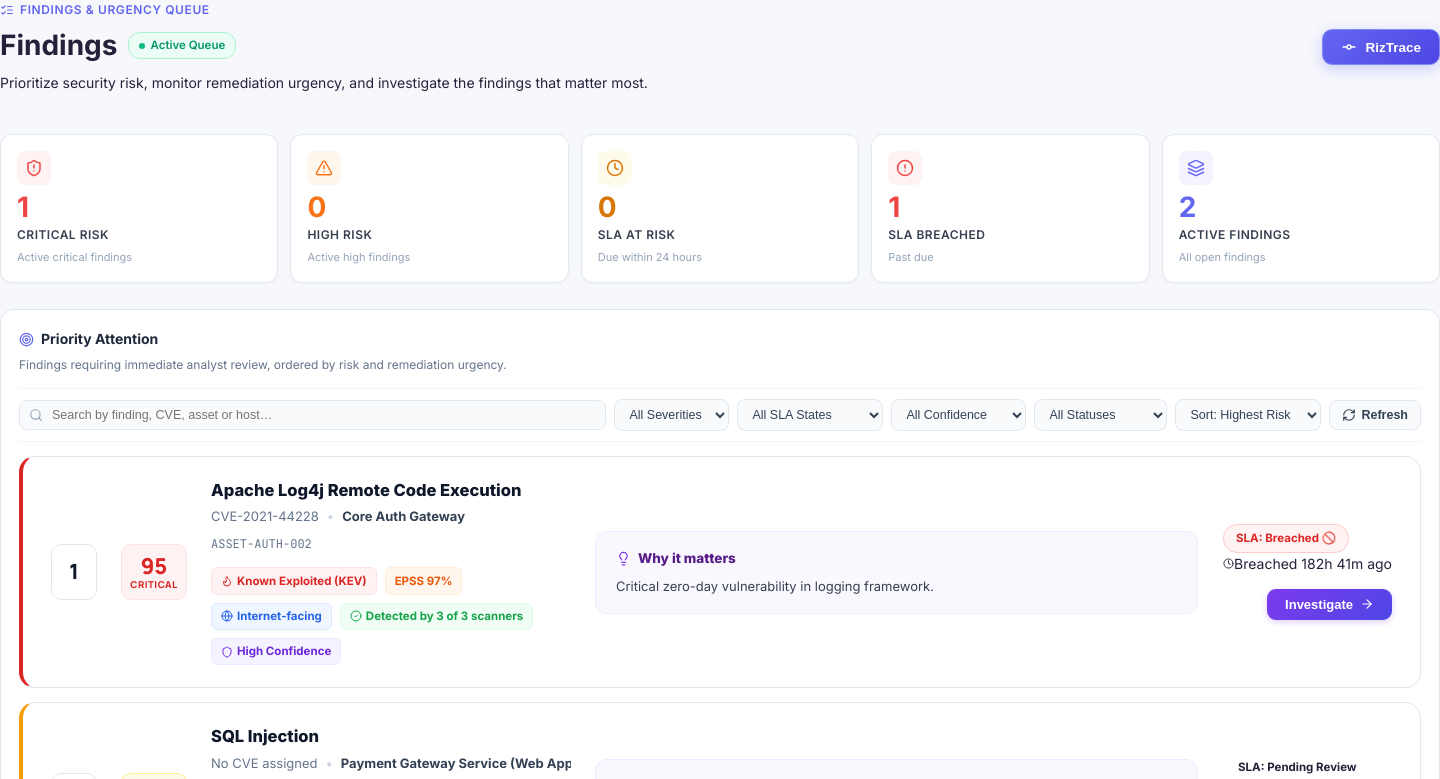
Test: Findings SOC Queue Component & Utilities › FindingsQueue Page Integration › 7. filters findings by search term
Expected: the heading "Apache Log4j Remote Code Execution" is shown, [211,479,521,501]
Type "Log4j" into the field with placeholder "Search by finding, CVE, asset or host…" at (313, 415), box [19,400,606,430]
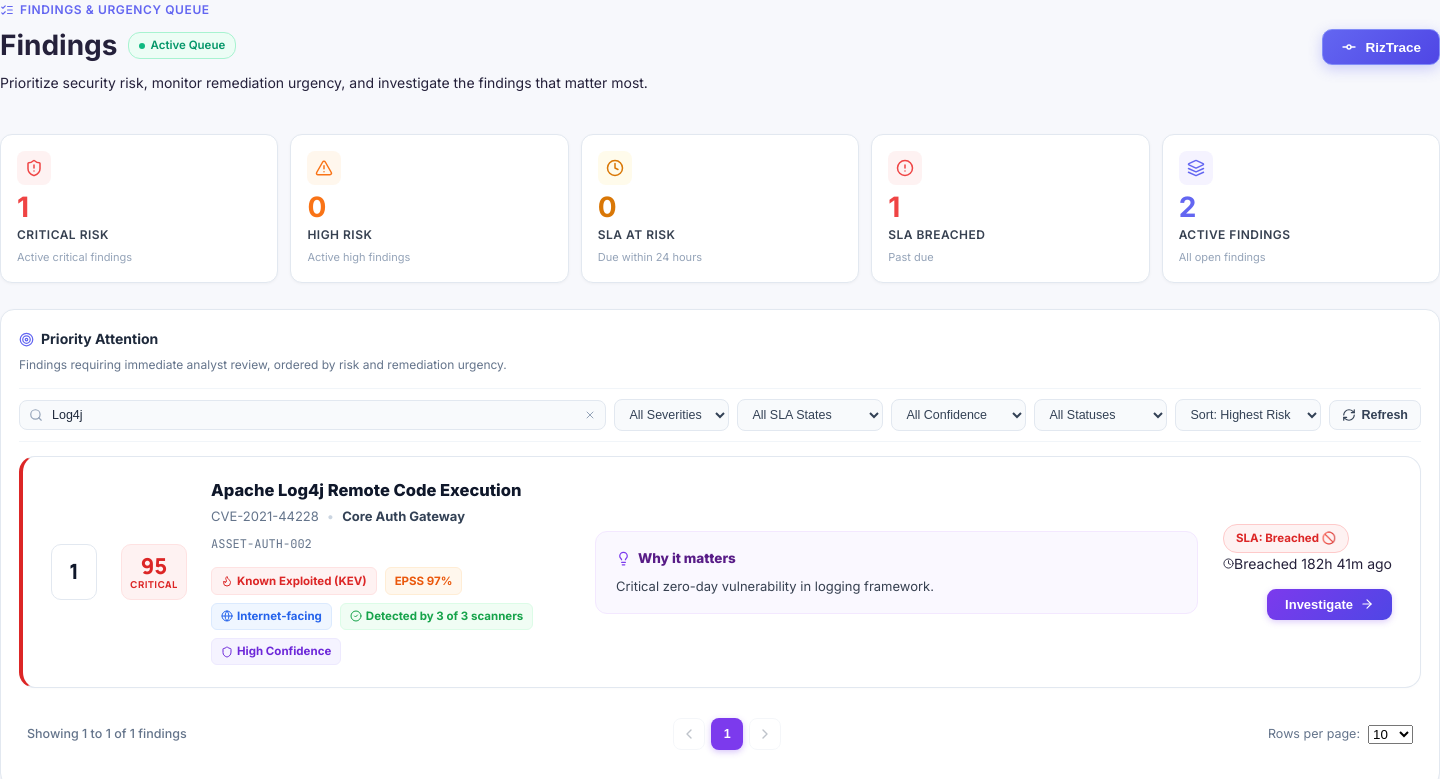
Expected: the heading "Apache Log4j Remote Code Execution" is shown, [211,479,521,501]
Now the text "Payment Gateway Service (Web Application)" is gone
